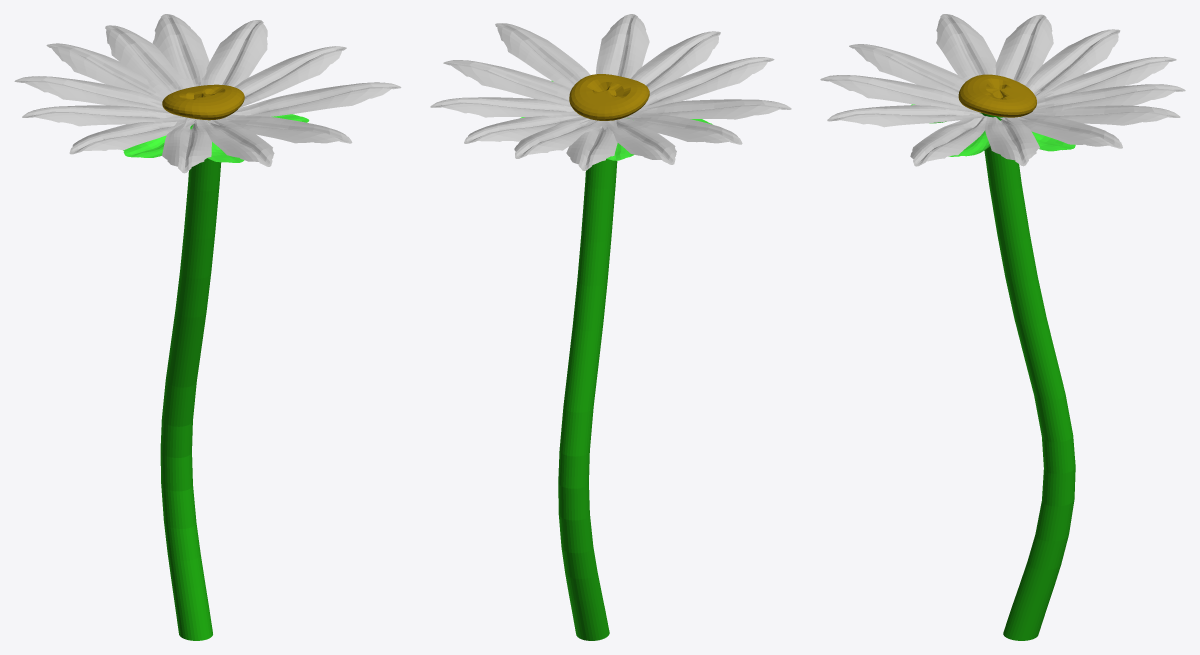
The model's file is daisy.obj.
The picture shows the model from 3 angles, left to right: view 1: azimuth 30°, elevation 25°; view 2: azimuth 150°, elevation 25°; view 3: azimuth 270°, elevation 25°; orthographic projection. The views are drawn at different scales.
Visible parts, largest first — view 1: Cylinder; view 2: Cylinder; view 3: Cylinder.
Boxes of the visible parts, x1,y1,x2,y2 form: Cylinder: [14, 14, 401, 640]; Cylinder: [430, 14, 791, 640]; Cylinder: [820, 14, 1185, 640].
Bounding box in the file's own units: 4.28 × 7.13 × 4.34.
